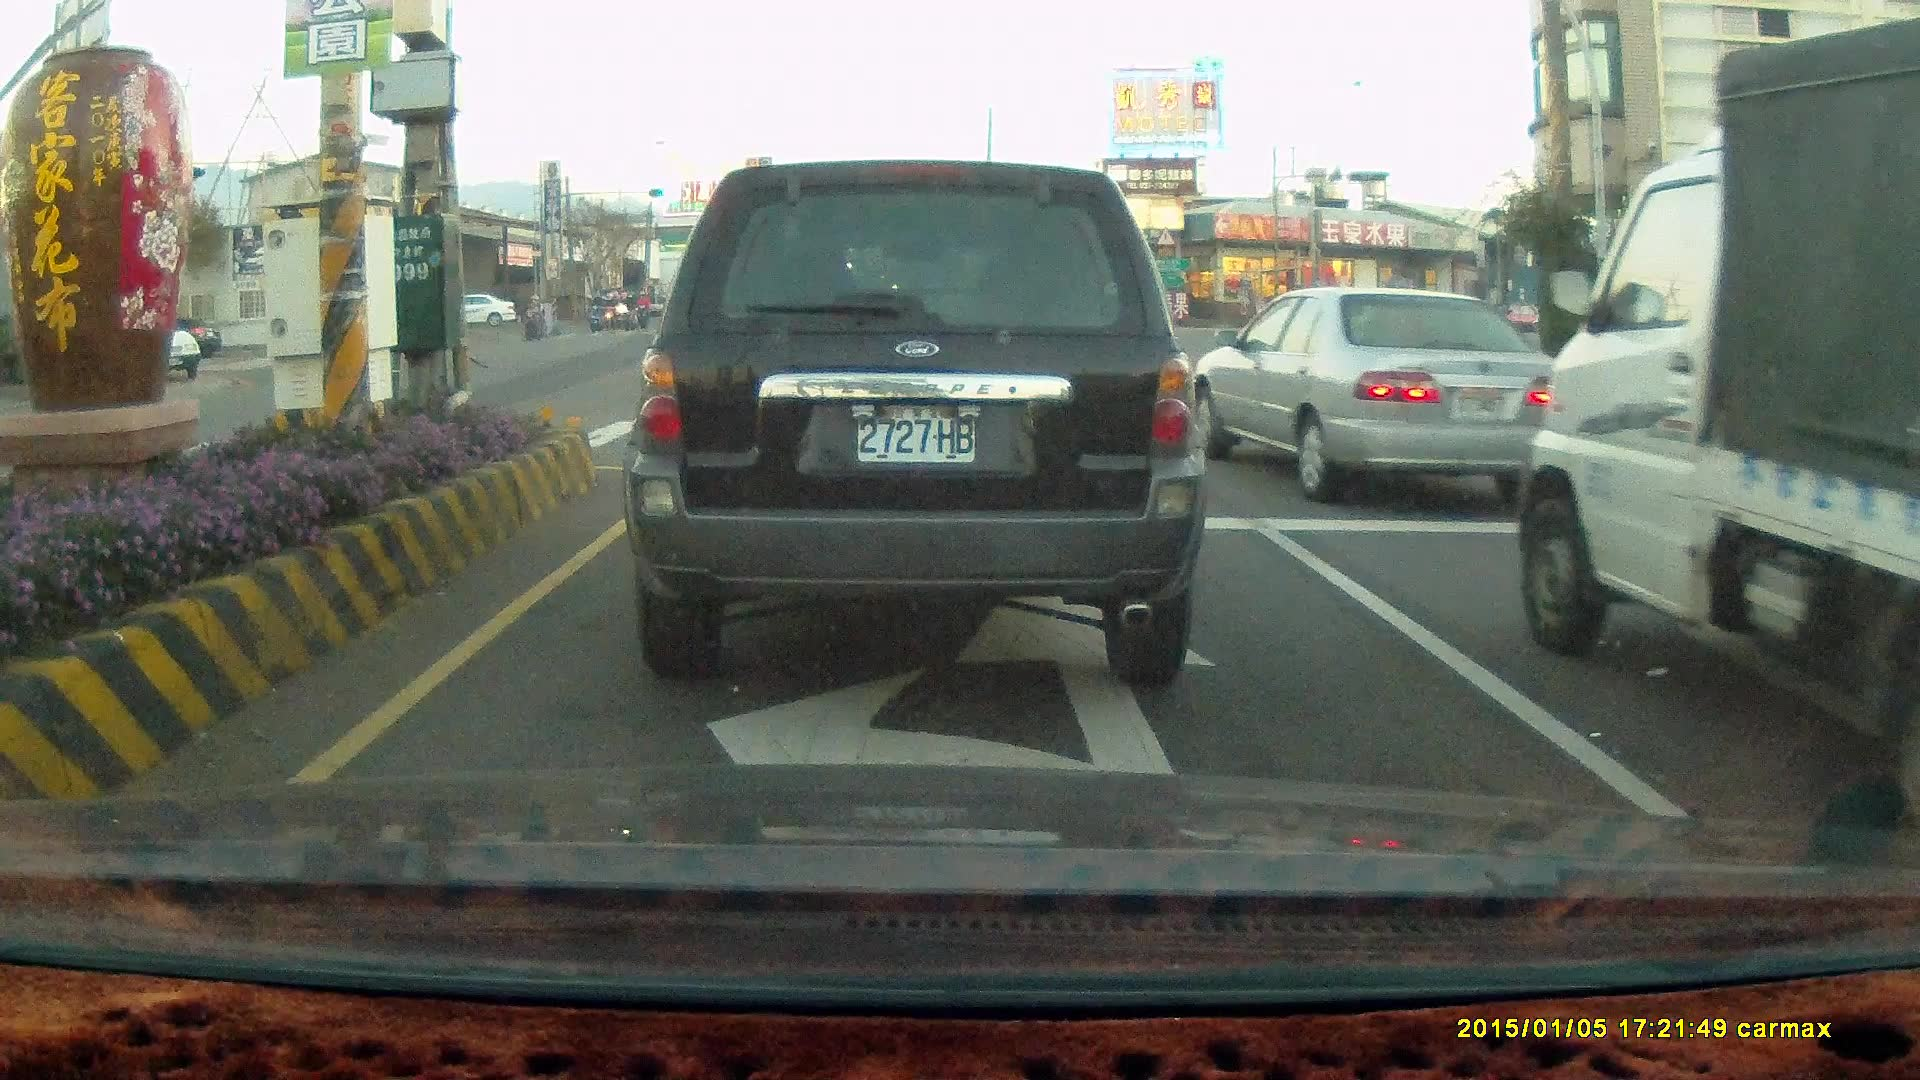rider: (515, 292, 546, 341), (618, 289, 642, 334), (585, 290, 606, 334), (589, 294, 611, 333)
vehicle: (1515, 11, 1920, 844), (620, 158, 1205, 688), (1186, 283, 1569, 503), (1177, 287, 1553, 503), (1676, 281, 1833, 371), (448, 295, 517, 328)
